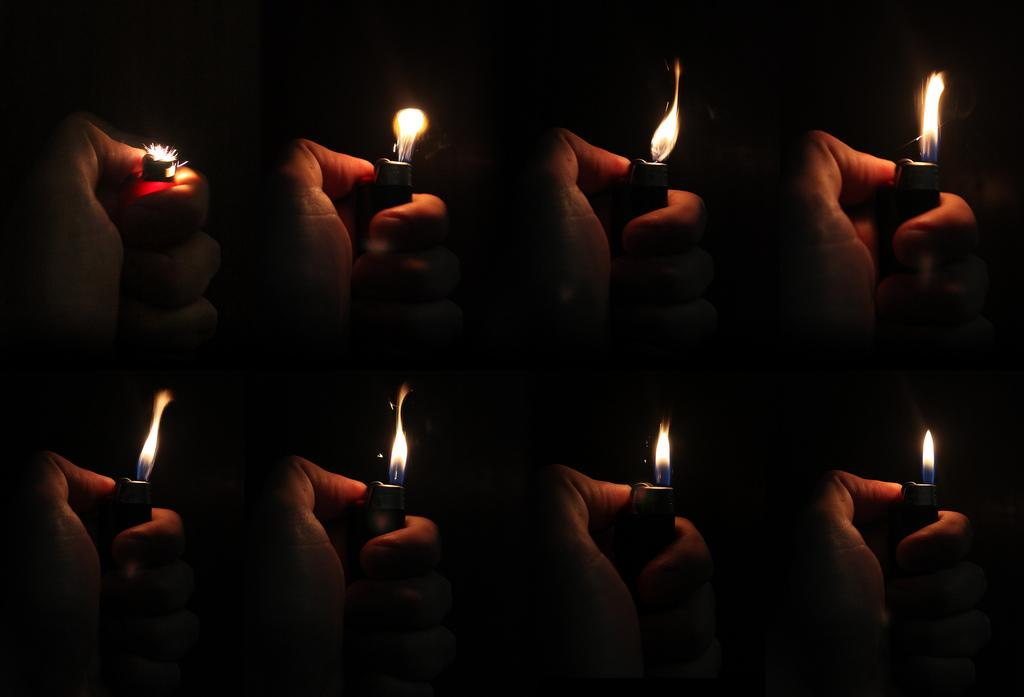fire: (385, 405, 432, 490), (917, 67, 958, 157), (128, 412, 165, 482), (387, 100, 428, 157), (653, 78, 683, 155), (137, 133, 177, 180), (652, 418, 675, 495), (918, 435, 950, 488)
